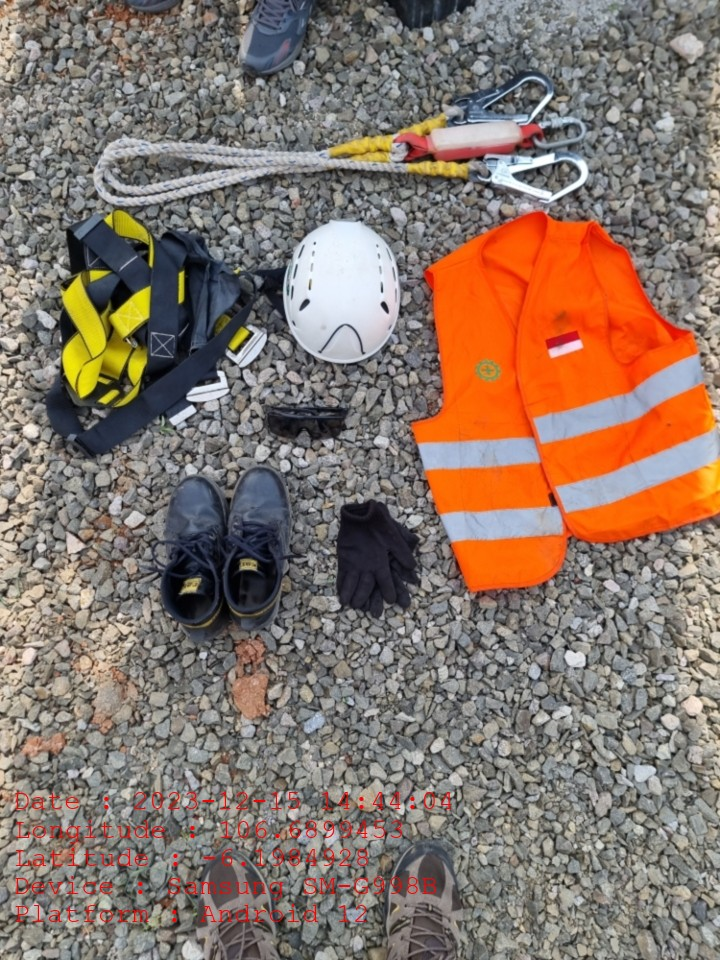HELM: (283, 219, 401, 364)
ROMPI: (419, 219, 720, 586)
SARUNG_TANGAN: (336, 501, 417, 610)
SEPATU: (158, 467, 297, 636)
TAMBANG_SLING: (84, 67, 602, 208)
